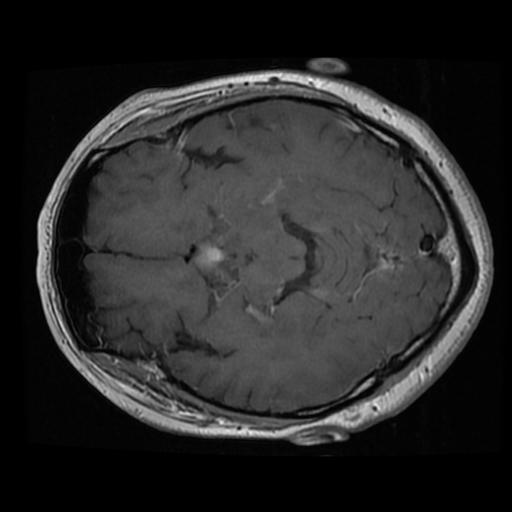pituitary tumour: (190, 240, 226, 278)
